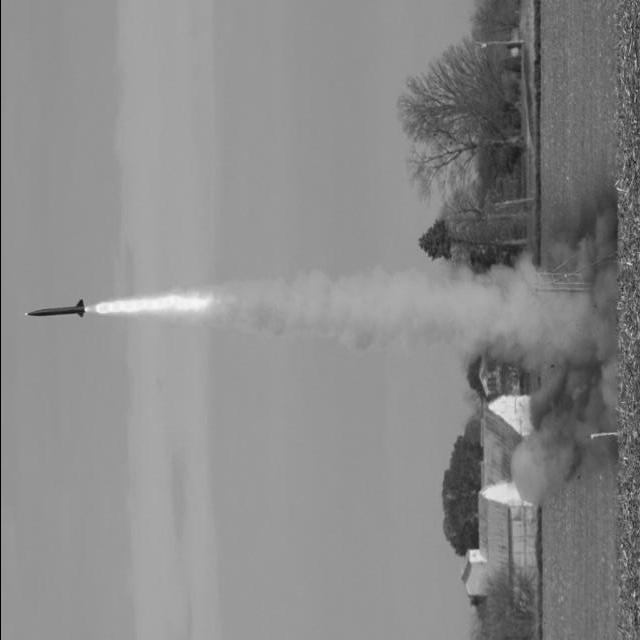missile: (19, 297, 89, 323)
